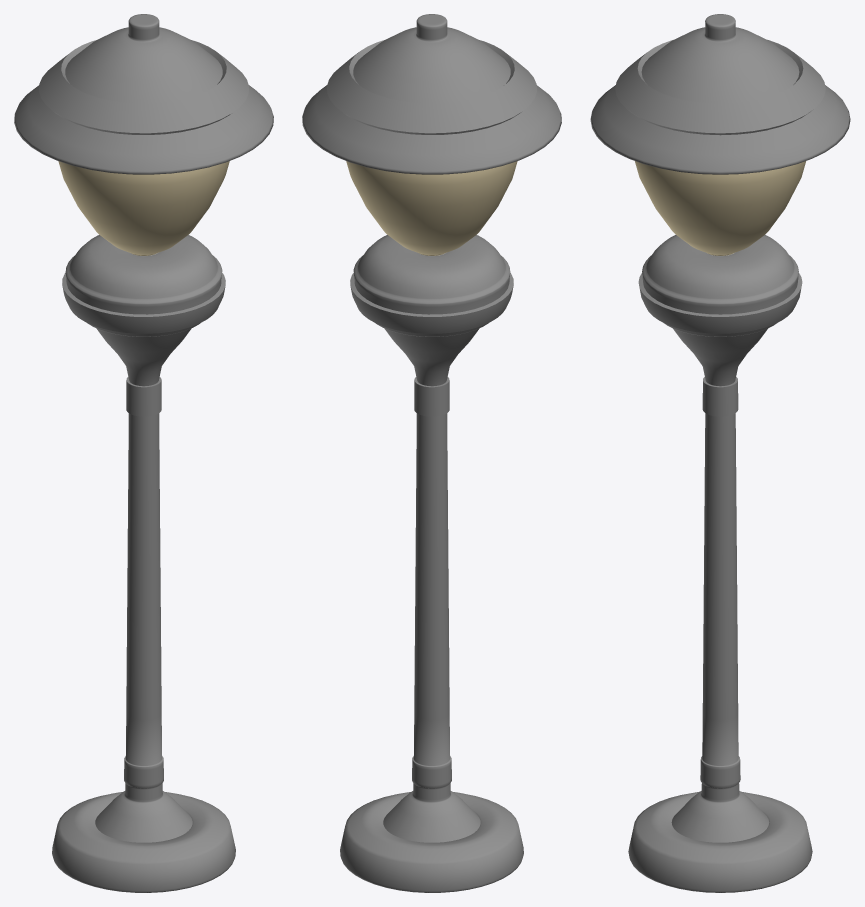
File: FbxLamp2.fbx
3 renders of one model, left to right at view 1: azimuth 30°, elevation 25°; view 2: azimuth 150°, elevation 25°; view 3: azimuth 270°, elevation 25°, orthographic.
Visible parts, largest first — view 1: Lamp2; view 2: Lamp2; view 3: Lamp2.
Part boxes in pixels (<box>): Lamp2: <box>14,14,273,892</box>; Lamp2: <box>302,14,561,892</box>; Lamp2: <box>590,14,850,892</box>.
Bounding box in the file's own units: 2.41 × 8.53 × 2.41.
